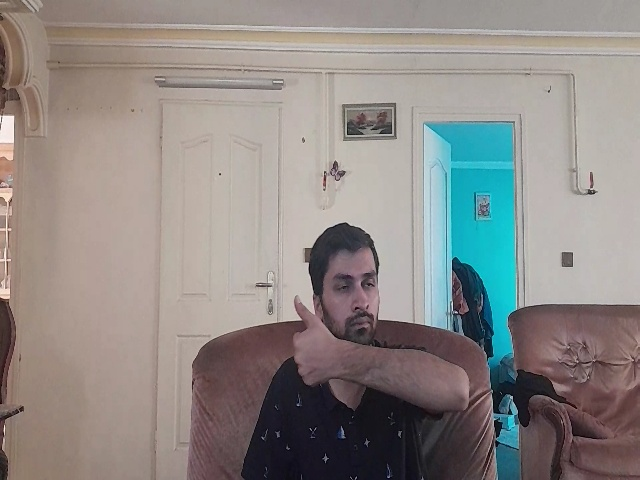ThumbsUp: (291, 295, 340, 390)
